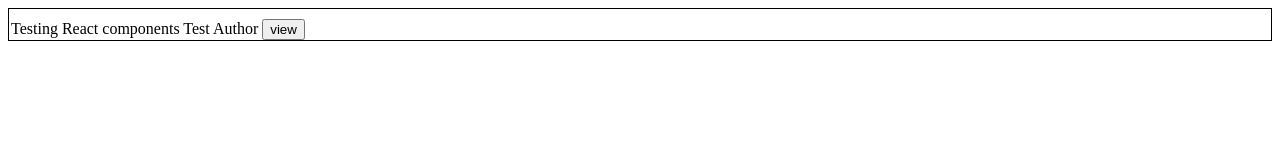
Test: <Blog /> › shows the url and the likes after clicking the view button
Click the button "view" at (284,30), box [262,19,305,40]
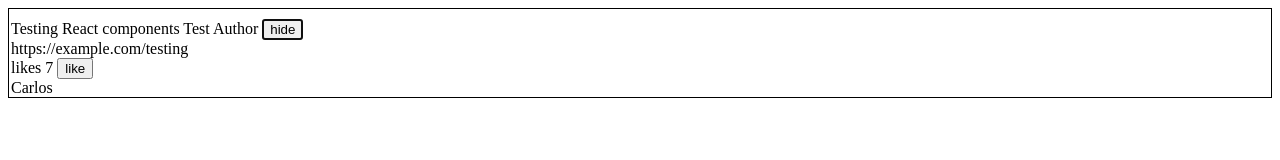
Expected: the element with class "blog-details" shows "https://example.com/testing", [11,40,188,57]
Expected: the element with class "blog-details" shows "likes 7", [11,40,188,96]
